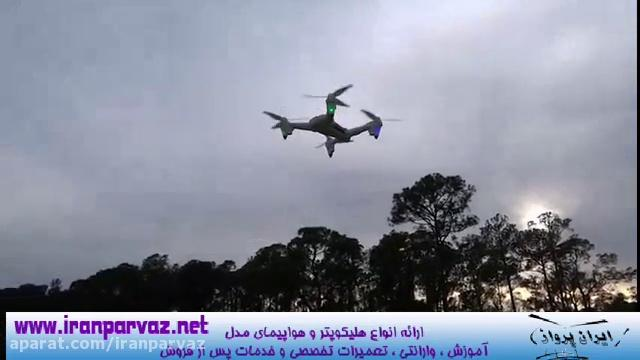drone: (257, 80, 405, 160)
